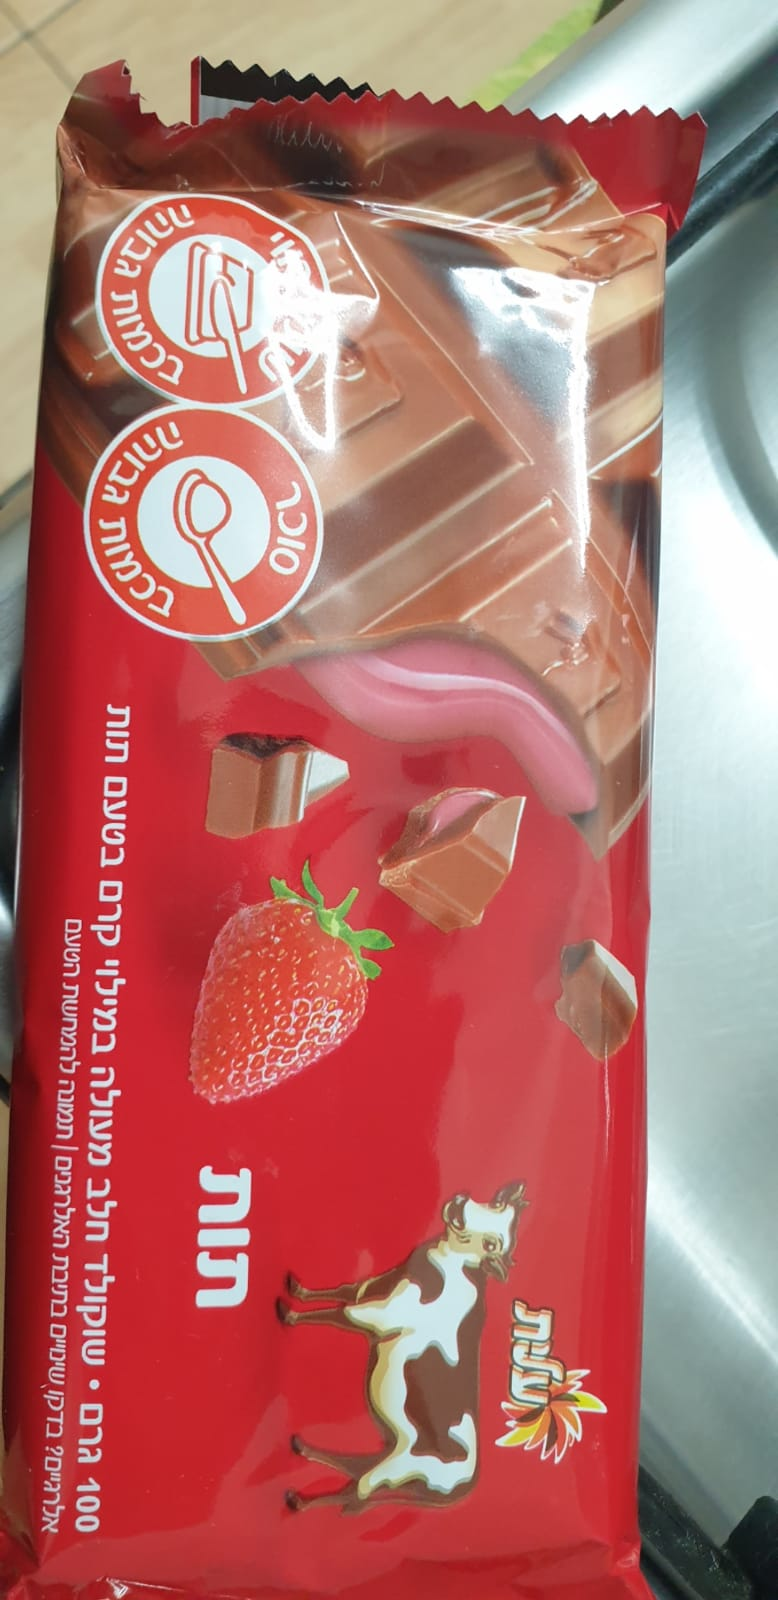fat: (93, 193, 330, 411)
sugar: (80, 403, 326, 640)
